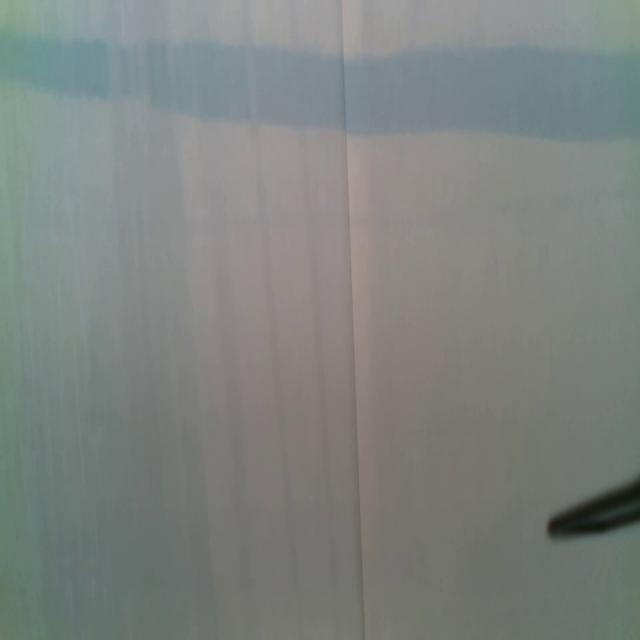color bleeding: (0, 22, 640, 150)
crease: (340, 0, 367, 640)
